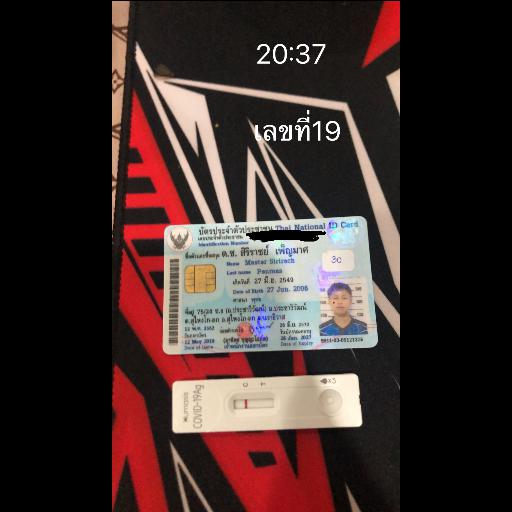Neg: (170, 373, 361, 435)
